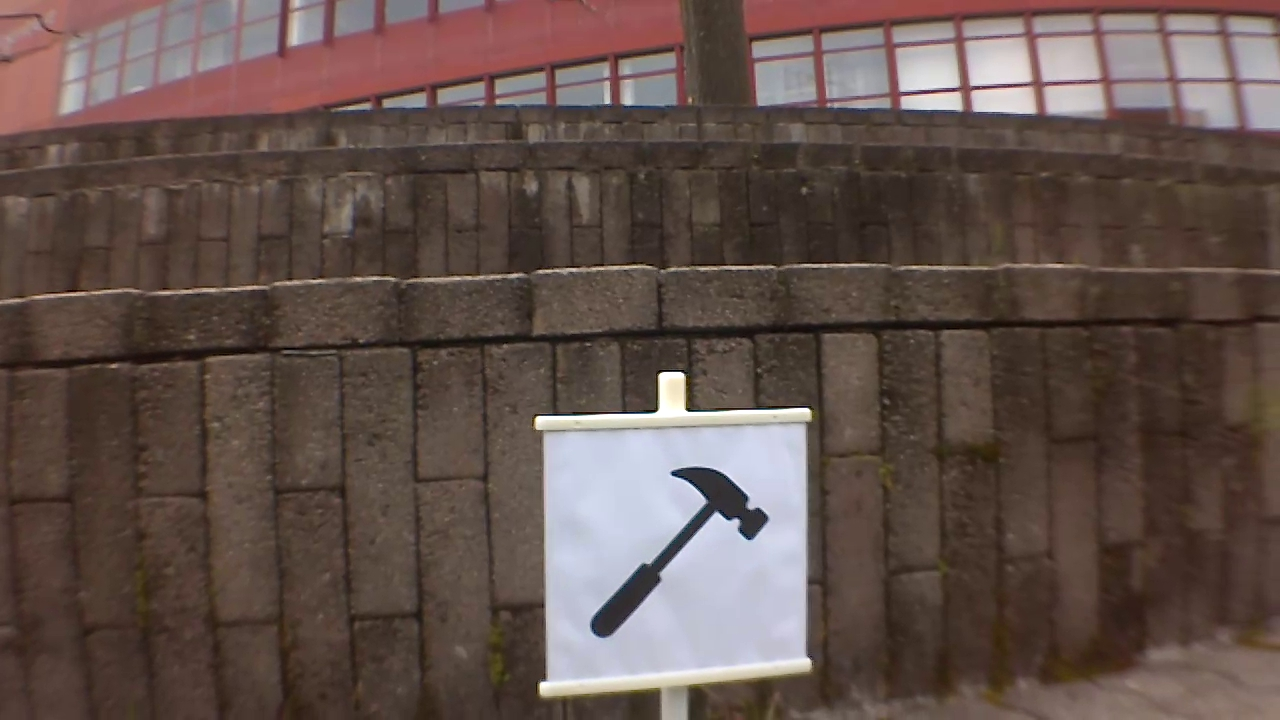hammer: (585, 457, 778, 636)
